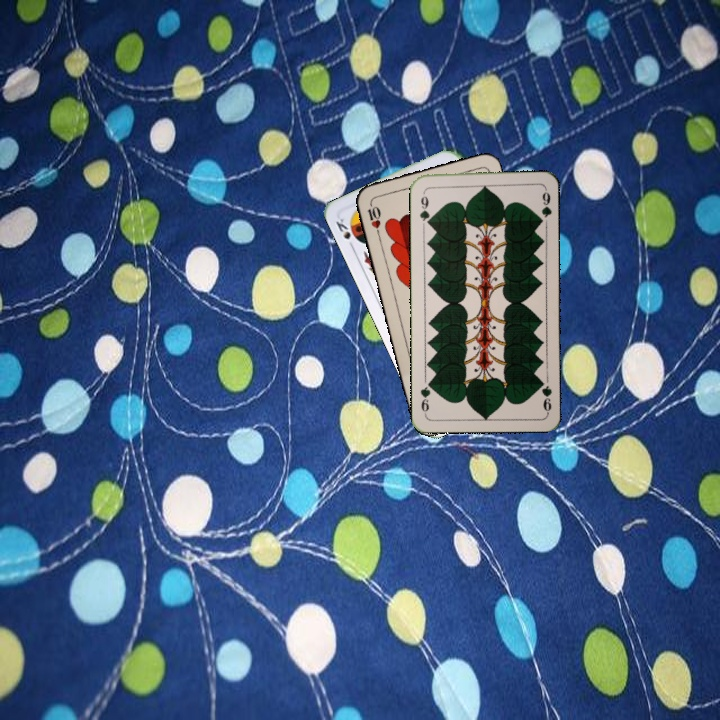G9: (535, 375, 554, 415), (416, 187, 433, 228)
H10: (363, 198, 383, 238)
SK: (332, 214, 357, 252)
